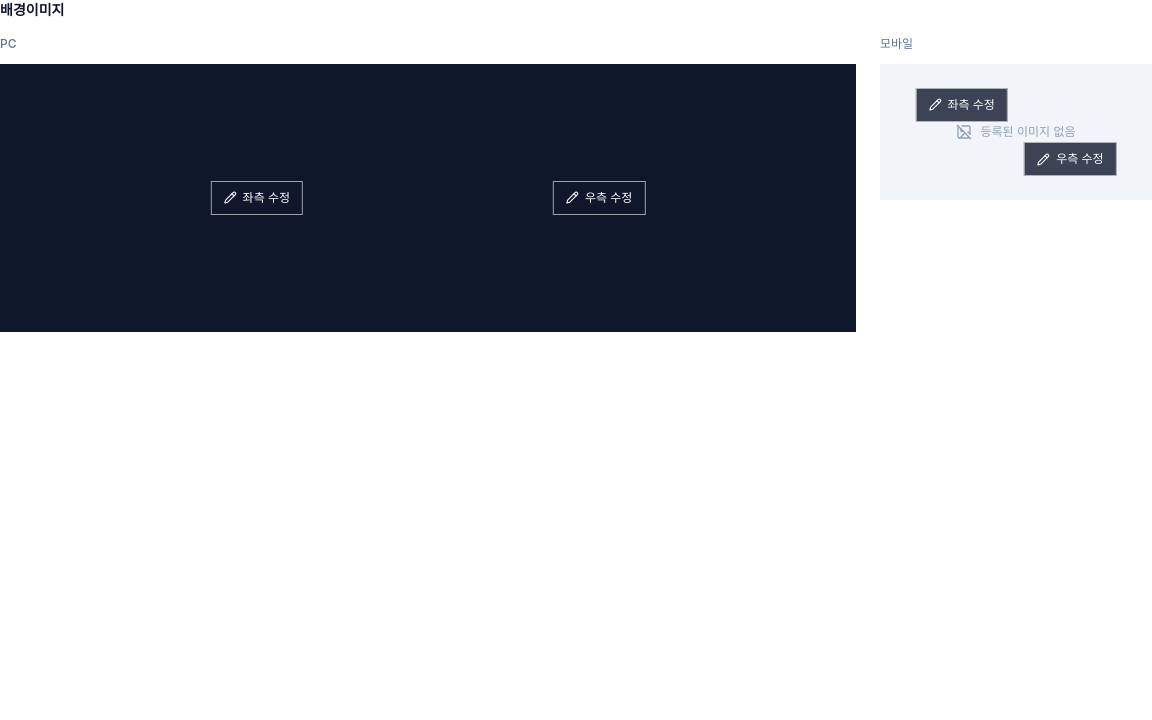
Test case: 기기별 새 사진 업로드·크롭 › 기기별 미리보기에 별도 사진을 표시하며 빈 모바일 영역에 PC 사진을 대신 표시하지 않음
Click the button with aria-label "모바일 좌측 배경이미지 수정". click: (962, 105)
box: top-left (880, 64), bottom-right (1151, 200)
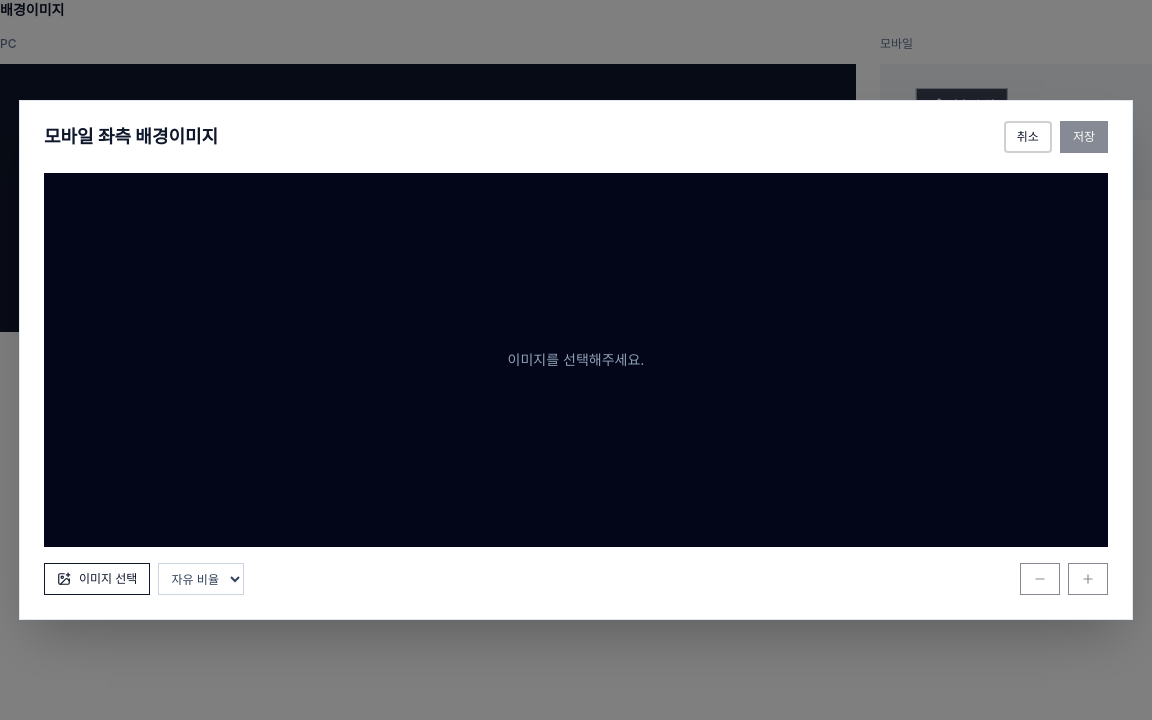
expect the file field labelled "이미지 선택" is shown: met, box top-left (44, 563), bottom-right (150, 595)
